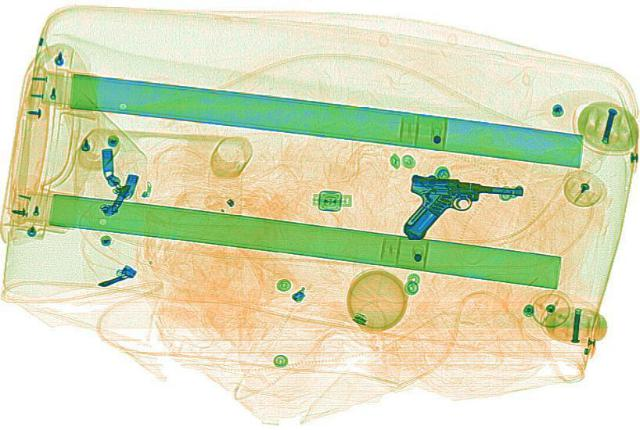Gun: (380, 158, 538, 238)
